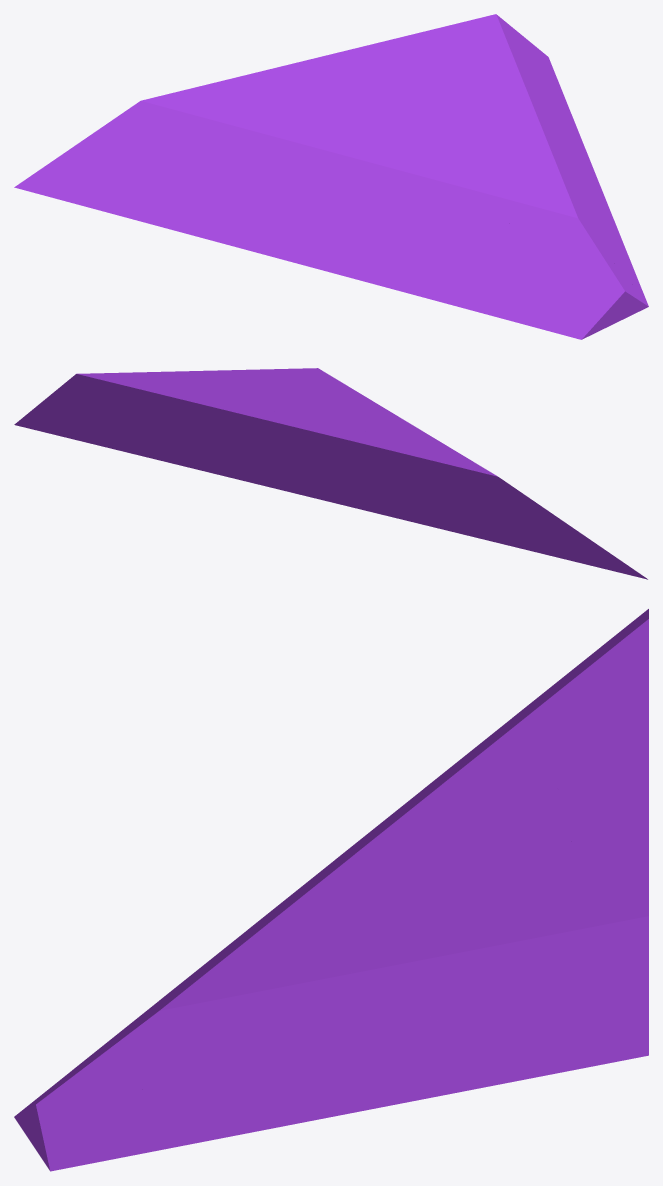
The model's file is Window_150_0_chunks.fbx.
3 views of the same model, one above another, from view 1: azimuth 30°, elevation 25°; view 2: azimuth 150°, elevation 25°; view 3: azimuth 270°, elevation 25° (orthographic). The views are drawn at different scales.
Parts seen in each view (by area): view 1: Window_150_0_0, Window_150_0_12, Window_150_0_4, Window_150_0_3, Window_150_0_11, Window_150_0_10, Window_150_0_5, Window_150_0_9, Window_150_0_14, Window_150_0_15, Window_150_0_6, Window_150_0_2; view 2: Window_150_0_5, Window_150_0_12, Window_150_0_11, Window_150_0_0, Window_150_0_15, Window_150_0_13, Window_150_0_10; view 3: Window_150_0_11, Window_150_0_9, Window_150_0_0, Window_150_0_10, Window_150_0_5, Window_150_0_3, Window_150_0_15, Window_150_0_12, Window_150_0_4, Window_150_0_2.
Boxes of the visible parts, x1,y1,x2,y2 form: Window_150_0_0: (240,59,488,212); Window_150_0_12: (14,87,253,243); Window_150_0_4: (268,182,511,308); Window_150_0_3: (472,225,648,339); Window_150_0_11: (439,14,566,138); Window_150_0_10: (468,126,624,275); Window_150_0_5: (266,28,440,101); Window_150_0_9: (544,103,645,299); Window_150_0_14: (222,139,304,245); Window_150_0_15: (196,70,316,126); Window_150_0_6: (232,185,335,255); Window_150_0_2: (483,181,573,227); Window_150_0_5: (125,390,378,513); Window_150_0_12: (419,451,647,579); Window_150_0_11: (14,370,259,448); Window_150_0_0: (191,389,456,451); Window_150_0_15: (349,429,452,482); Window_150_0_13: (363,474,441,528); Window_150_0_10: (227,368,335,390); Window_150_0_11: (351,868,648,1076); Window_150_0_9: (65,972,539,1168); Window_150_0_0: (287,708,578,928); Window_150_0_10: (90,905,411,1118); Window_150_0_5: (553,724,648,872); Window_150_0_3: (14,975,200,1171); Window_150_0_15: (538,665,648,771); Window_150_0_12: (418,609,648,793); Window_150_0_4: (144,837,363,1012); Window_150_0_2: (158,924,288,1010).
Size of the model in its own units: 1005 by 298 by 603.
